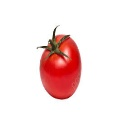tomato: (40, 35, 82, 99)
